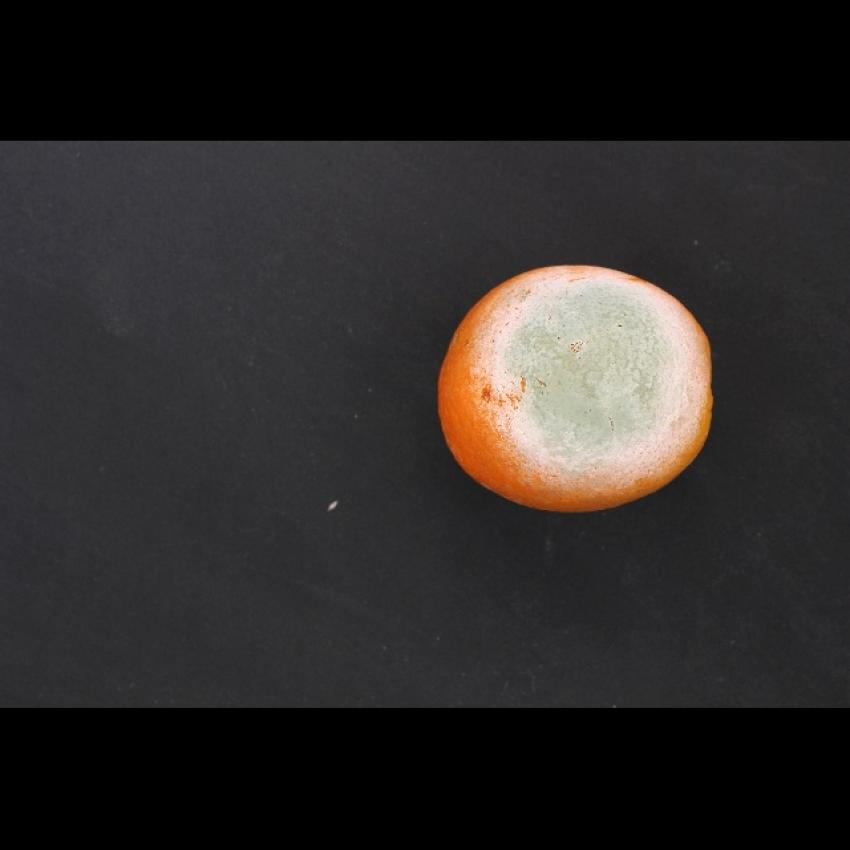Mal estado: (427, 250, 727, 517)
